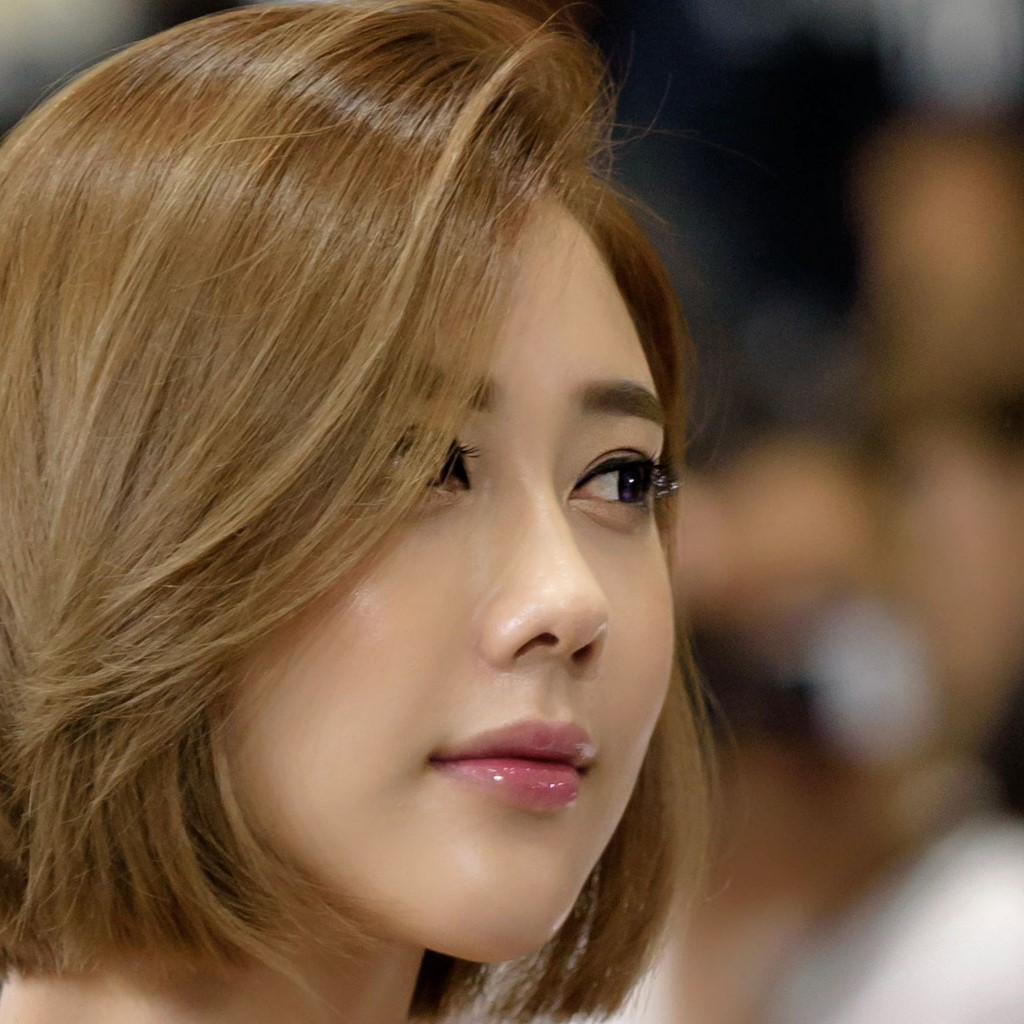sin_mascara: (122, 81, 671, 983)
